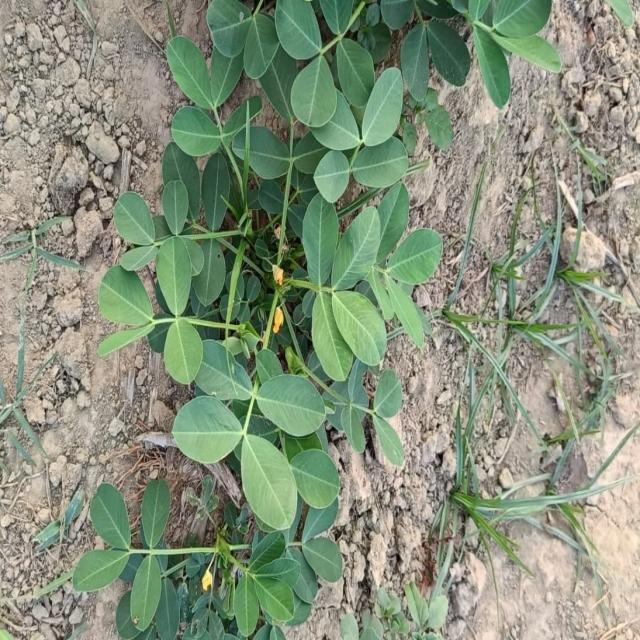plant: (72, 0, 560, 637)
